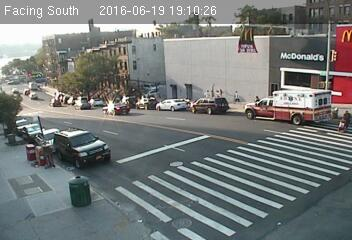neg: (36, 141, 61, 174), (90, 129, 106, 151), (111, 98, 125, 117)
pos: (336, 108, 351, 135), (229, 85, 244, 105)
